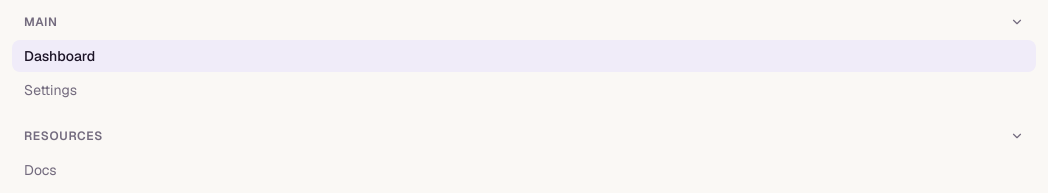
Test: SidebarNav › collapses section when collapsible
expect the link "Dashboard" is shown: met, box [12, 40, 1036, 72]
Step 1. Click the button "Main" → (41, 22), box [12, 8, 1036, 36]
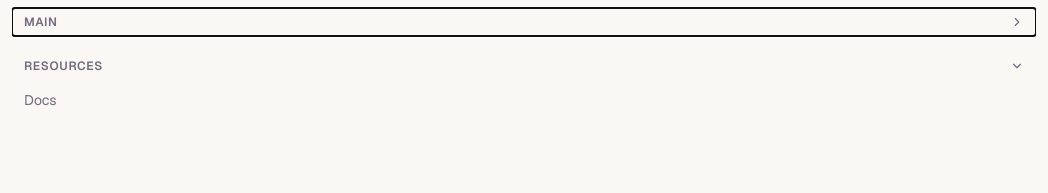
expect the link "Dashboard" is gone: met
